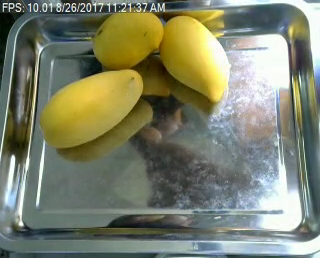Mango: (41, 68, 142, 150), (160, 13, 229, 102), (91, 7, 163, 66)
